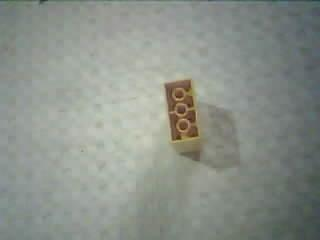lego: (158, 76, 207, 153)
